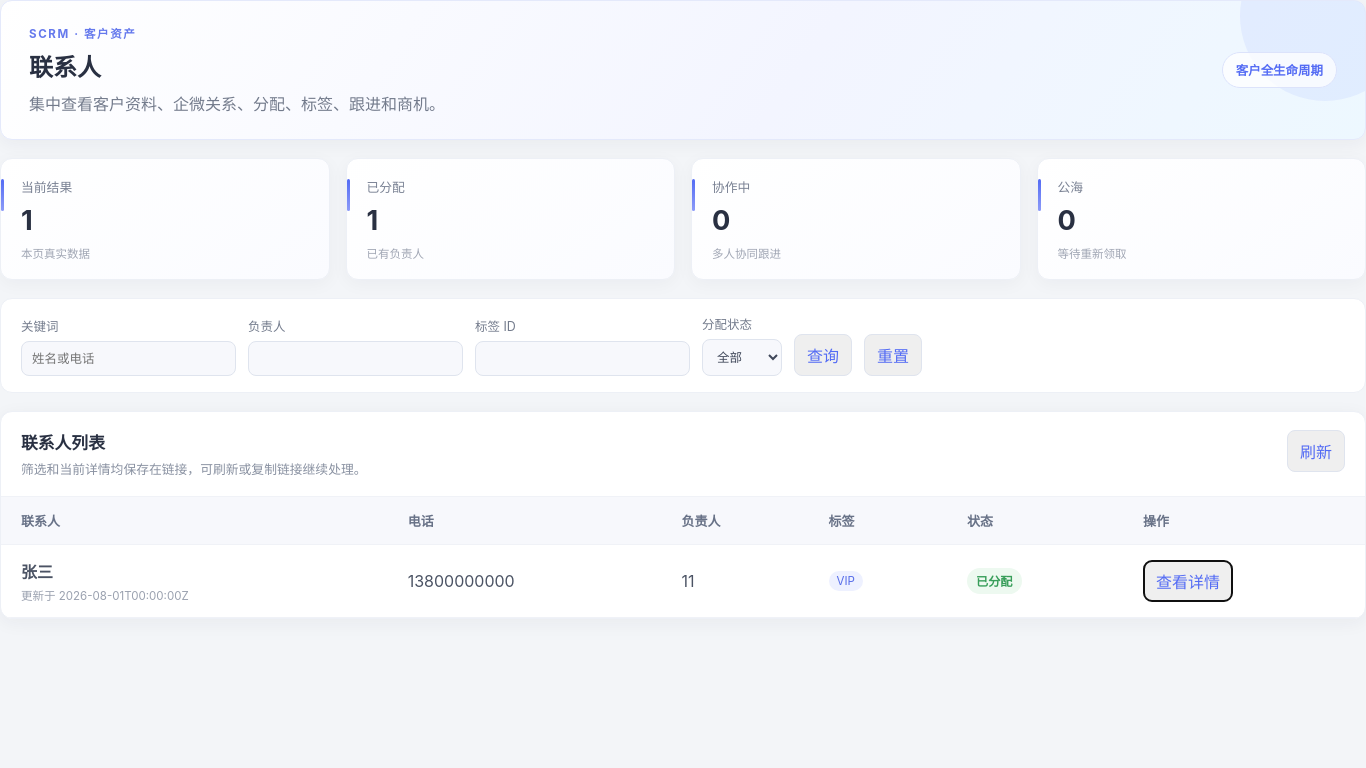
it: ContactPage › opens contact detail as an accessible drawer and restores focus on Escape
The width and height of the screenshot is (1366, 768).
Click the button with aria-label "查看张三" at (1188, 581), box left=1143, top=560, right=1233, bottom=602
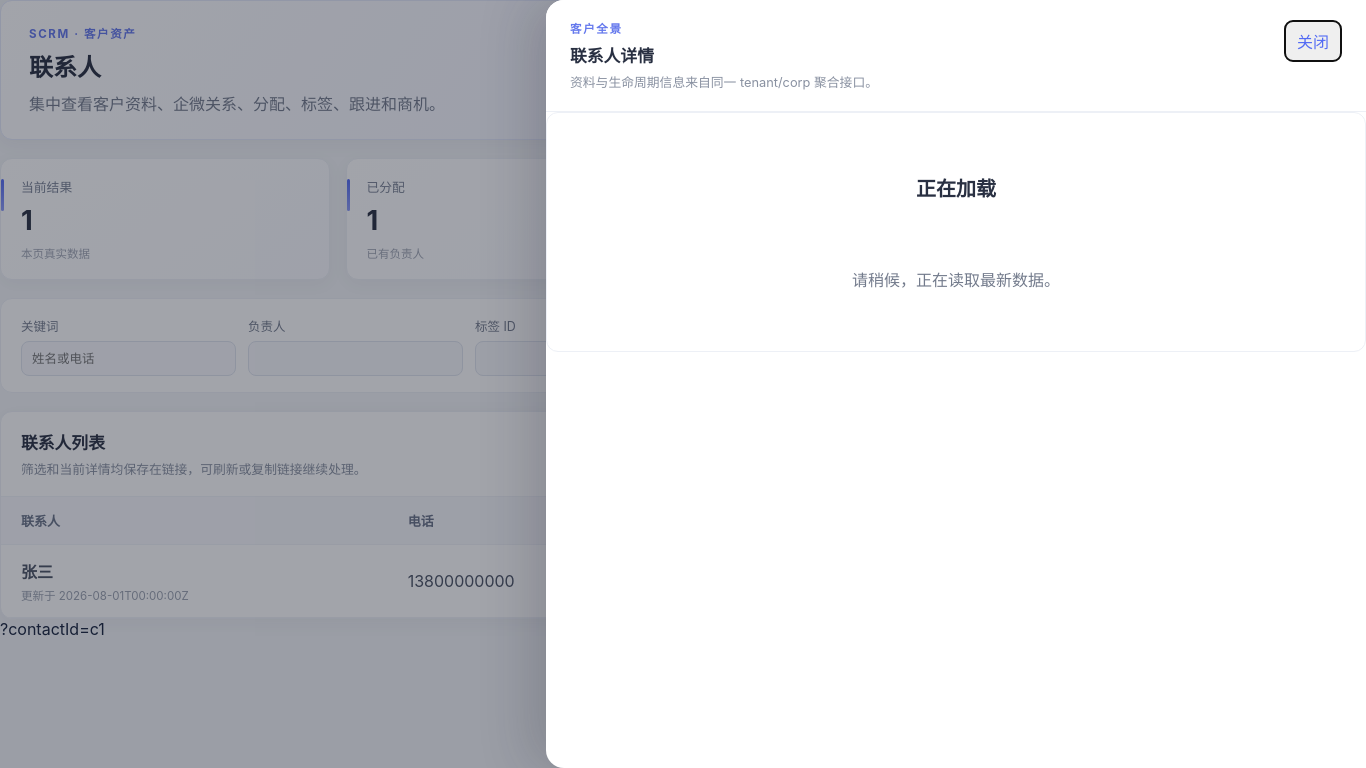
Press Escape
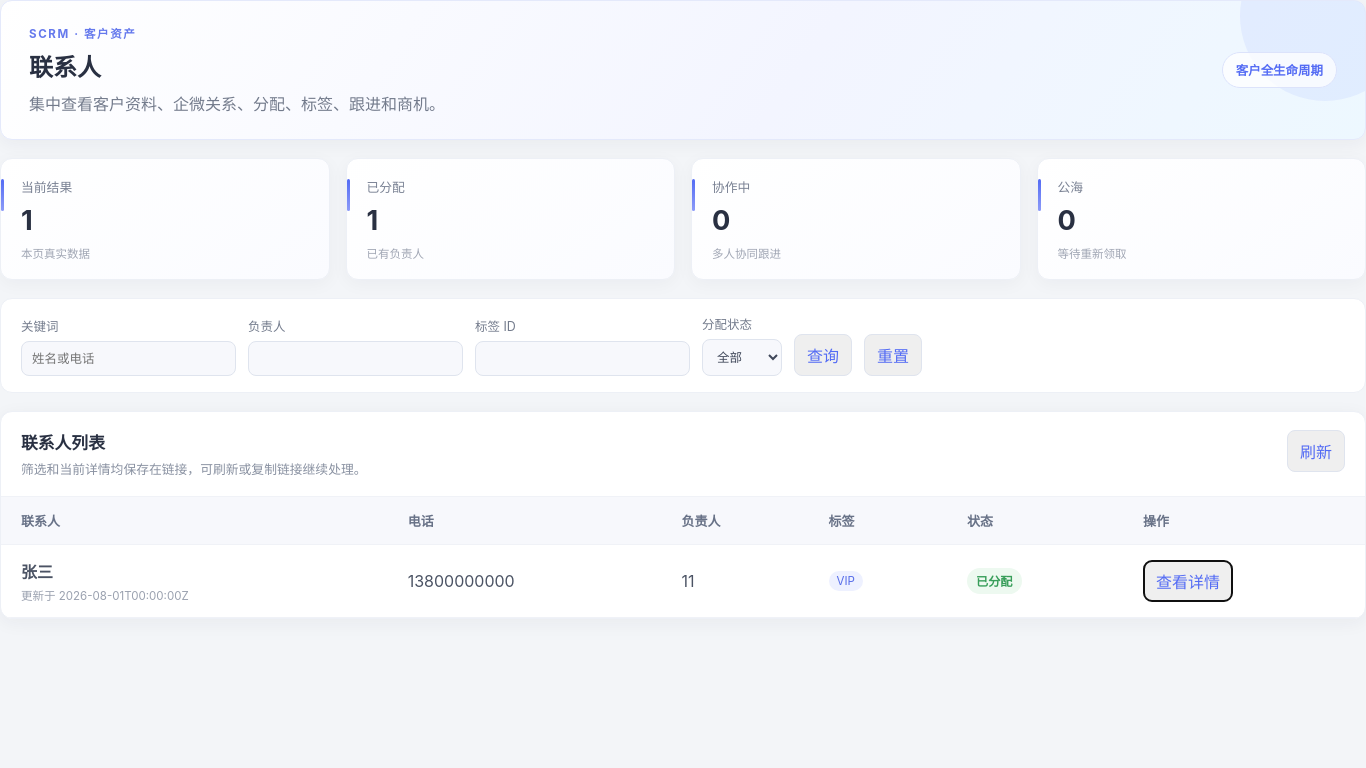
Result: the heading "联系人详情" is gone
